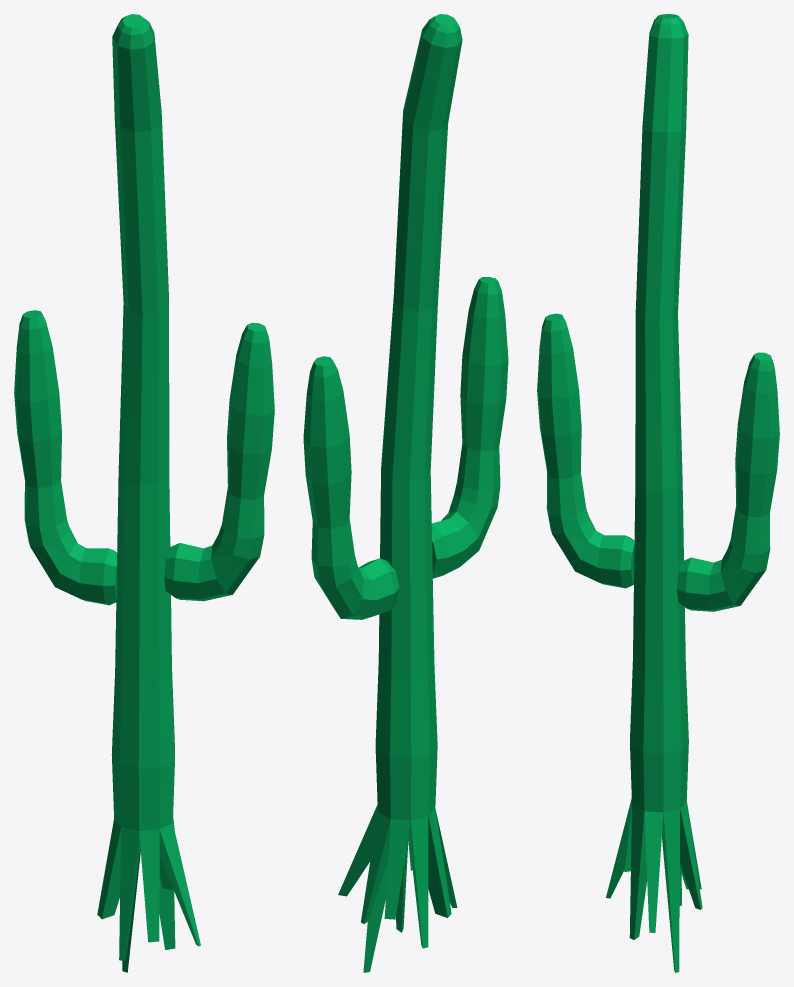
File: SeguaroCactusLarge2_LOD0.fbx
3 renders of one model, left to right at view 1: azimuth 90°, elevation 25°; view 2: azimuth 150°, elevation 25°; view 3: azimuth 270°, elevation 25°, orthographic. The views are drawn at different scales.
Visible parts, largest first — view 1: SeguaroCactusLarge2_LOD0; view 2: SeguaroCactusLarge2_LOD0; view 3: SeguaroCactusLarge2_LOD0.
Boxes of the visible parts, box(x1,y1,x2,y2) form: SeguaroCactusLarge2_LOD0: box(14, 14, 274, 972); SeguaroCactusLarge2_LOD0: box(303, 14, 508, 972); SeguaroCactusLarge2_LOD0: box(537, 14, 779, 972).
Bounding box in the file's own units: 138 × 578 × 79.98.
